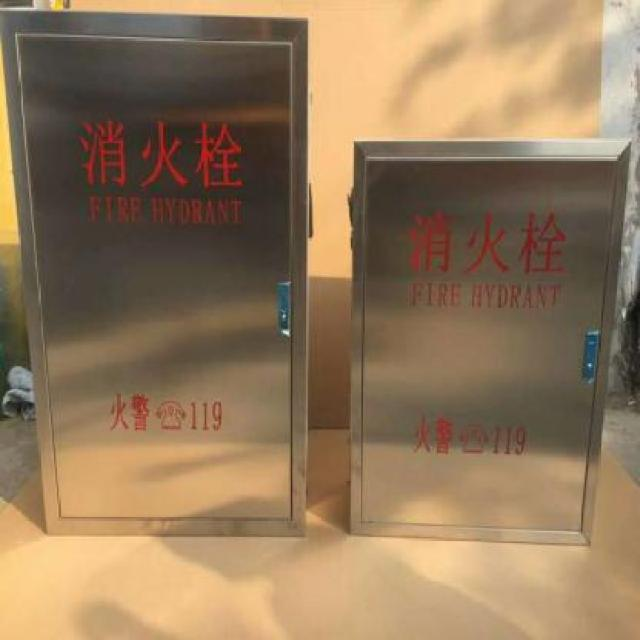firehydrant: (0, 1, 312, 543), (346, 132, 635, 552)
